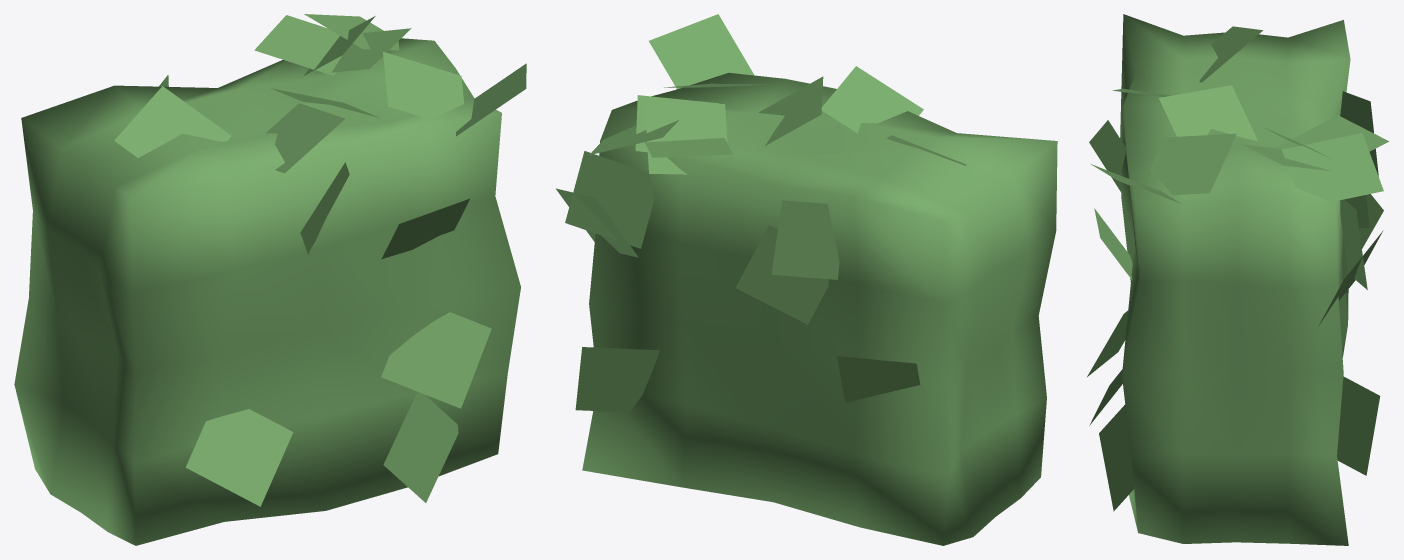
Rendered from hedge_1m.glb.
The picture shows the model from 3 angles, left to right: view 1: azimuth 30°, elevation 25°; view 2: azimuth 150°, elevation 25°; view 3: azimuth 270°, elevation 25°; orthographic projection. The views are drawn at different scales.
Visible parts, largest first — view 1: hedge_1m; view 2: hedge_1m; view 3: hedge_1m.
Part boxes in pixels (x1,y1,x2,y2): hedge_1m: [14, 14, 526, 545]; hedge_1m: [556, 14, 1057, 545]; hedge_1m: [1087, 14, 1388, 545].
Size of the model in its own units: 1.12 by 1.04 by 0.7246.
